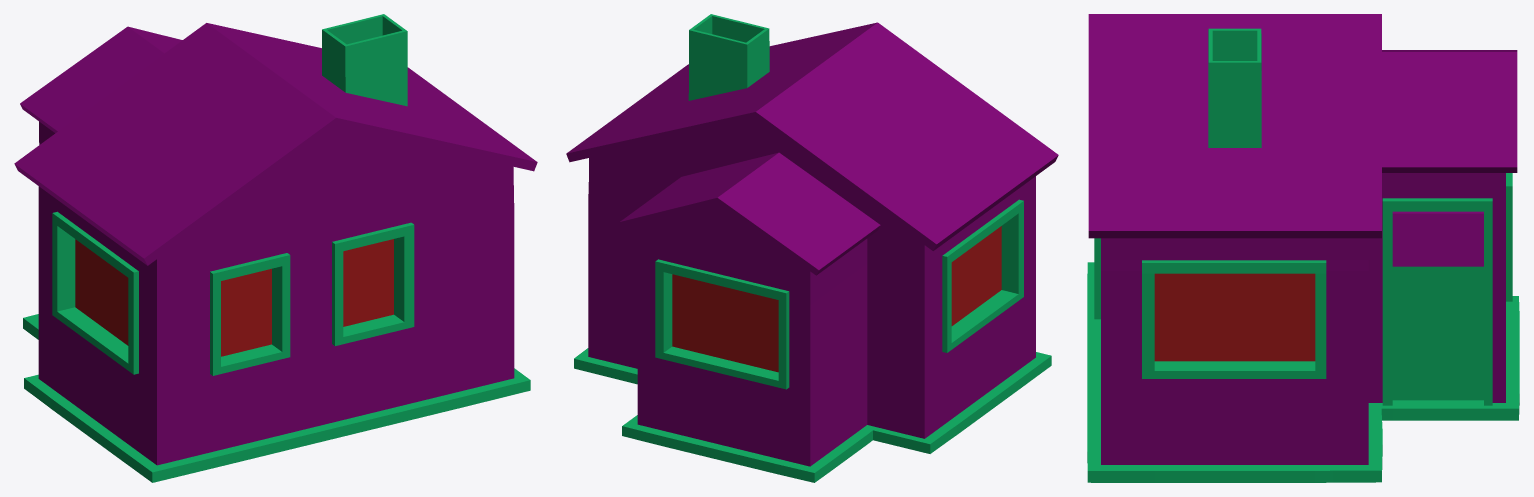
The model's file is house.fbx.
3 views of the same model, side by side, from view 1: azimuth 30°, elevation 25°; view 2: azimuth 150°, elevation 25°; view 3: azimuth 270°, elevation 25° (orthographic). The views are drawn at different scales.
Parts seen in each view (by area): view 1: house; view 2: house; view 3: house.
Part boxes in pixels (x1,y1,x2,y2): house: (14, 14, 537, 482); house: (566, 14, 1058, 482); house: (1087, 14, 1519, 482).
Size of the model in its own units: 384 by 315 by 323.
